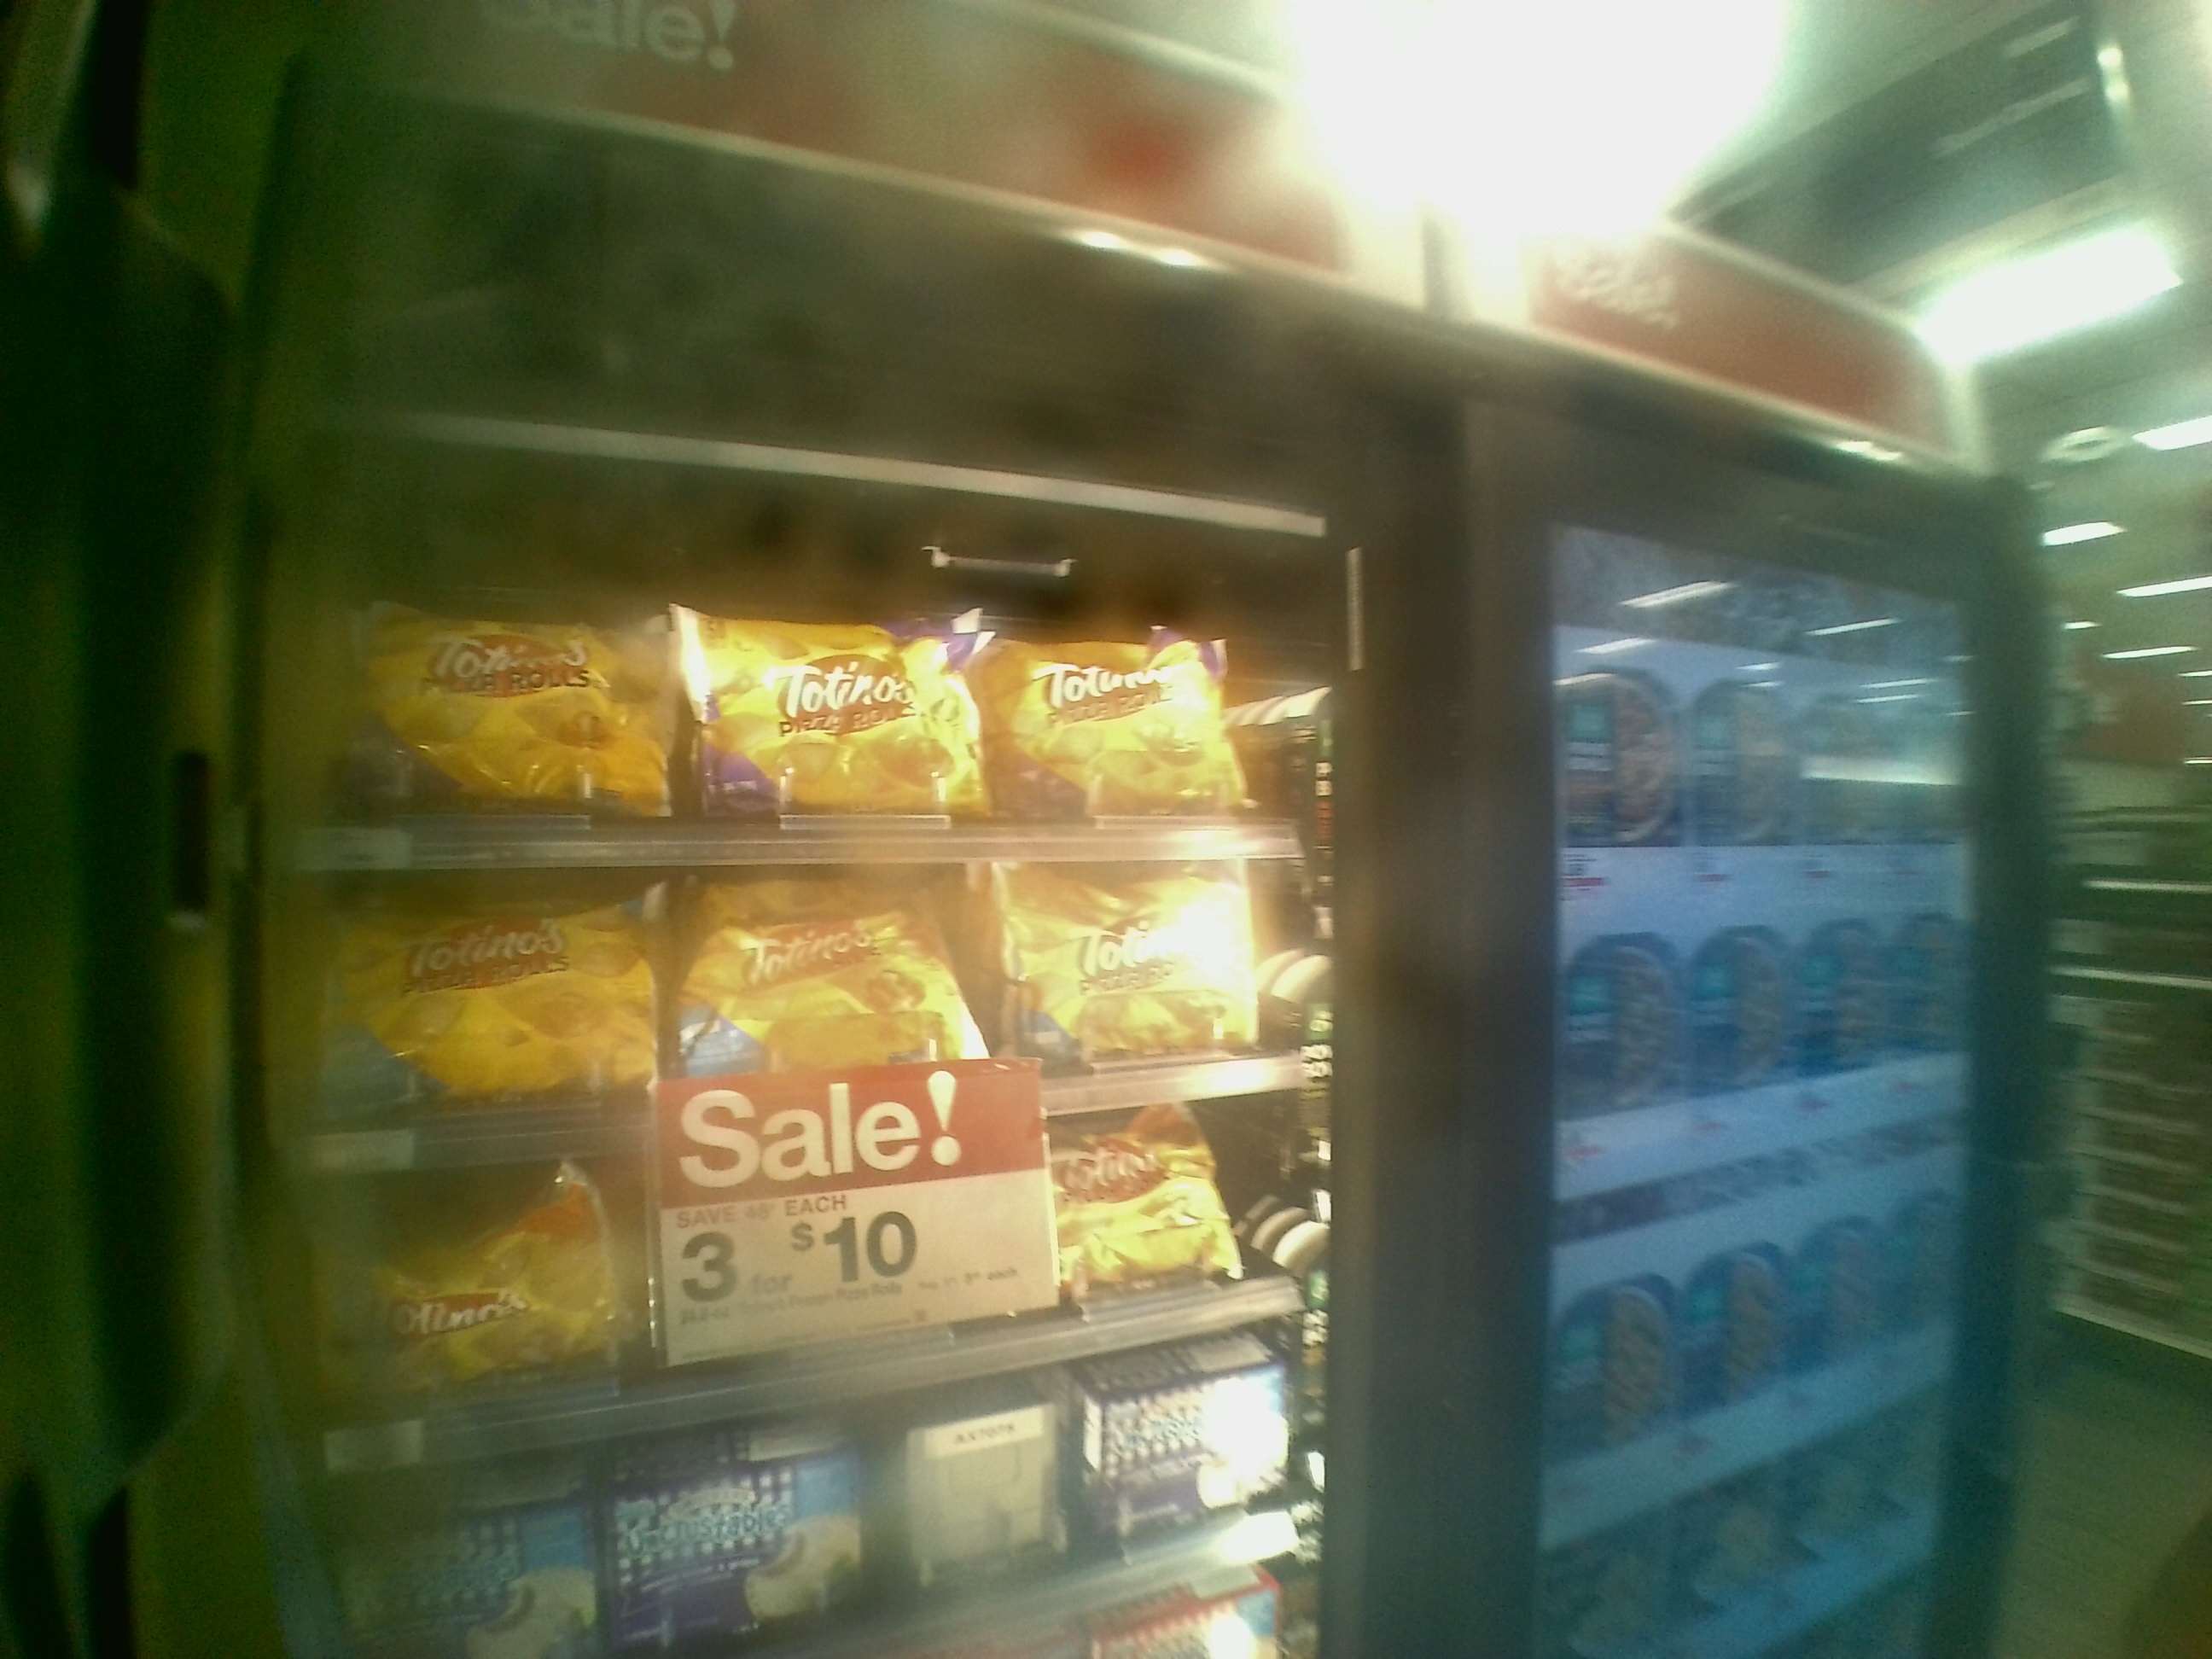shelf: (275, 404, 1336, 866), (244, 840, 1353, 1157), (286, 1164, 1346, 1438)
